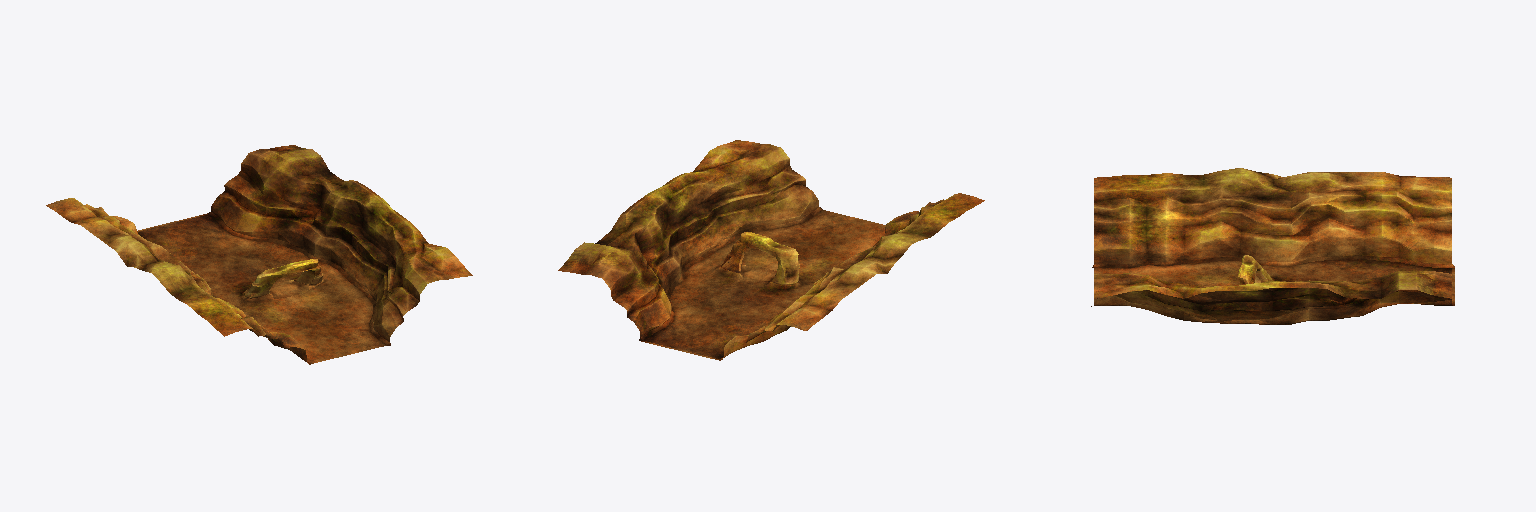
3 renders of one model, left to right at view 1: azimuth 30°, elevation 25°; view 2: azimuth 150°, elevation 25°; view 3: azimuth 270°, elevation 25°, orthographic.
Parts seen in each view (by area): view 1: Arch; view 2: Arch; view 3: Arch.
Boxes of the visible parts, x1=… form: Arch: x1=46, y1=145, x2=472, y2=364; Arch: x1=558, y1=140, x2=984, y2=360; Arch: x1=1091, y1=168, x2=1454, y2=324.
Size of the model in its own units: 241 by 58.09 by 319.
1 materials, 1 textured.